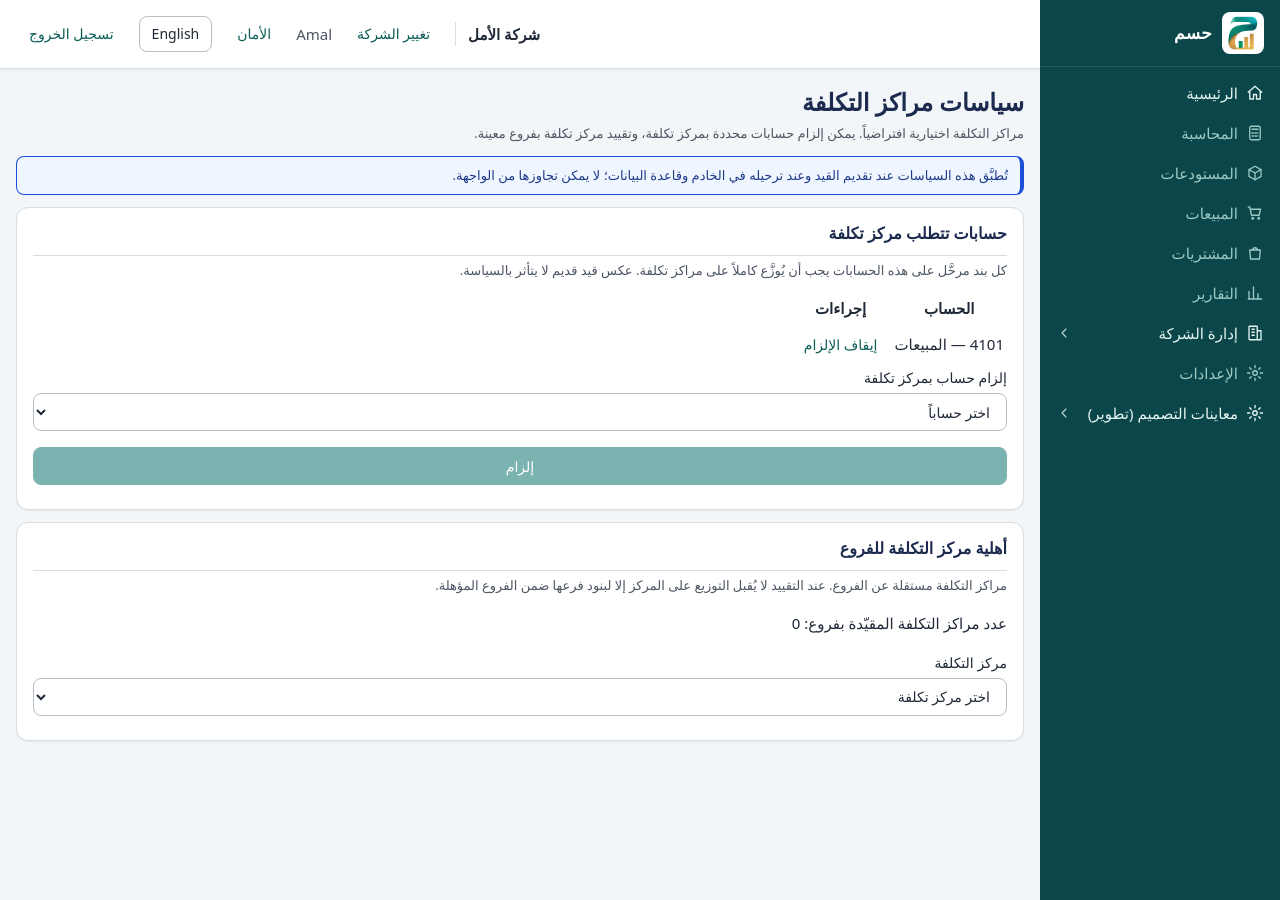
Test: cost center policies screen › stops requiring with the stored revision and reports an edit made elsewhere without losing the screen
Check: the element with test id "company-name" is shown, box left=455, top=22, right=540, bottom=46
Click the button "إيقاف الإلزام" at (841, 344), box left=791, top=325, right=890, bottom=363
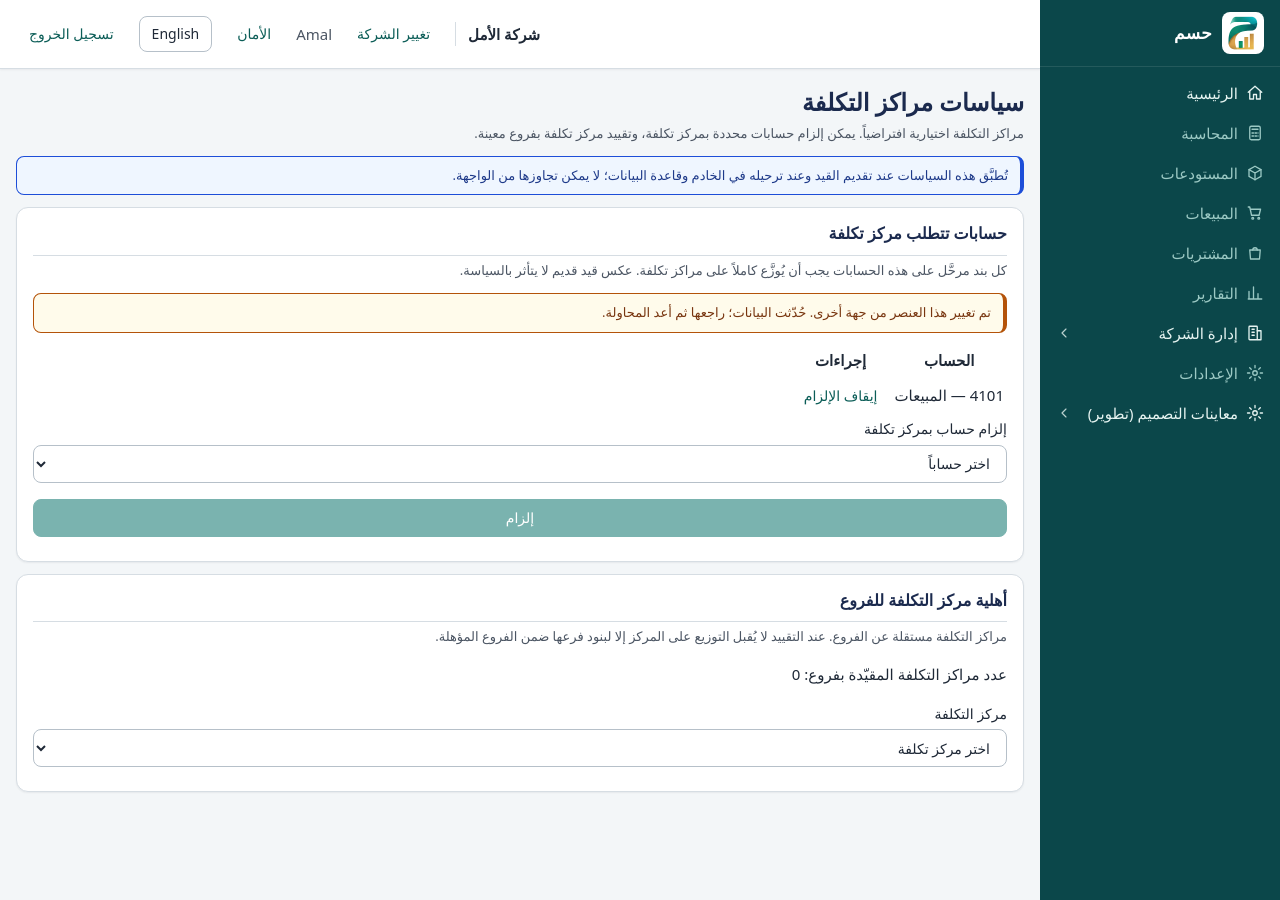
Check: the message "تم تغيير هذا العنصر من جهة أخرى. حُدّثت البيانات؛ راجعها ثم أعد المحاولة." is shown, box left=33, top=293, right=1007, bottom=333
